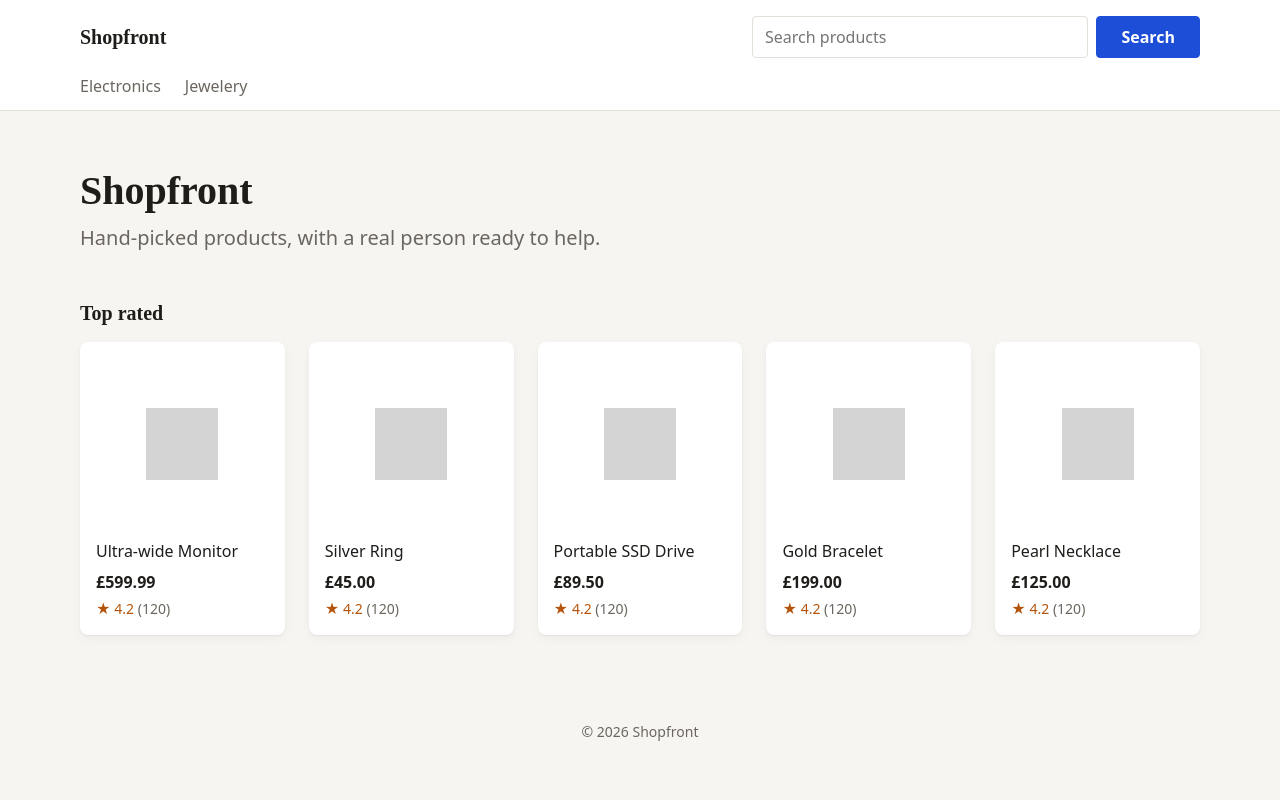
Test: Search › GIVEN a search term WHEN I click Search THEN I only see matching products
Type "  silver ring " into the search field labelled "Search products" at (920, 37), box [752,16,1088,58]
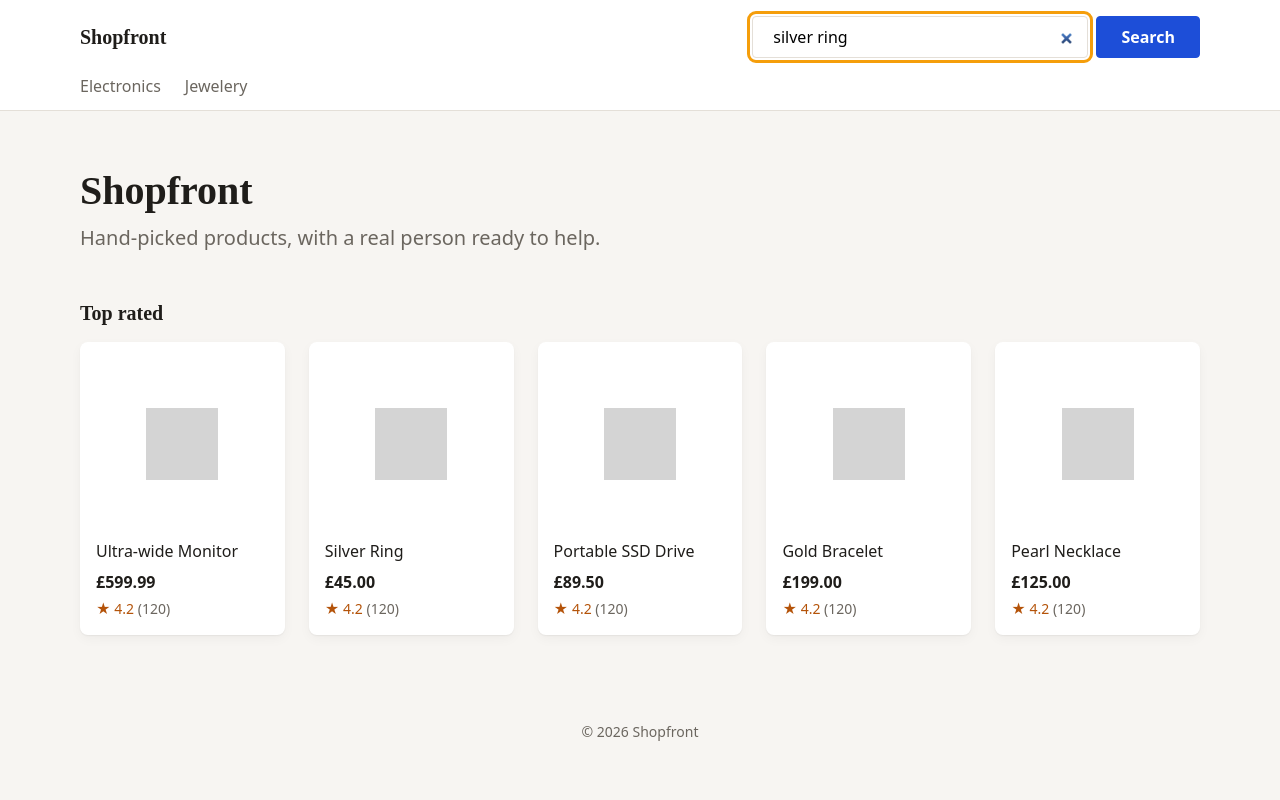
Click the button "Search" at (1148, 37), box [1096,16,1200,58]
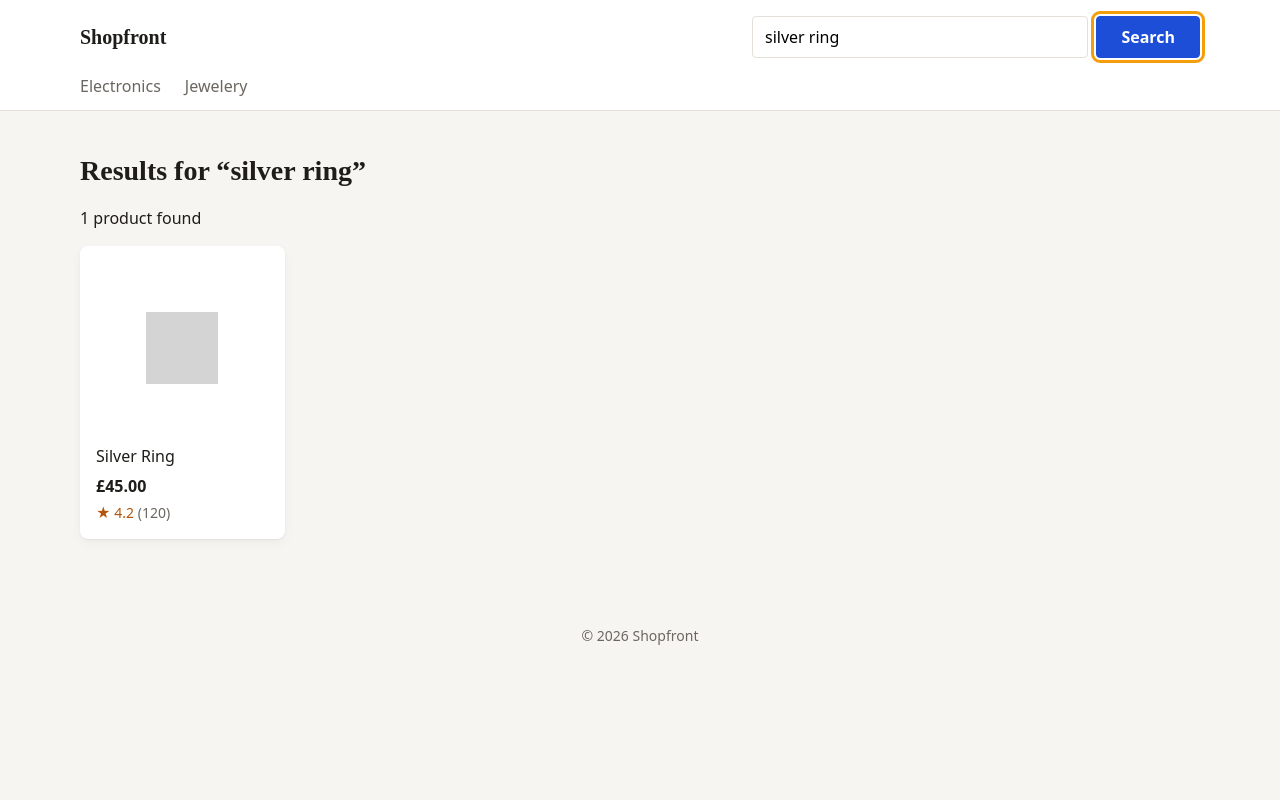
Expected: the heading "Silver Ring" is shown, [96,445,175,467]
Expected: the message reads "1 product found", [80,207,201,229]
